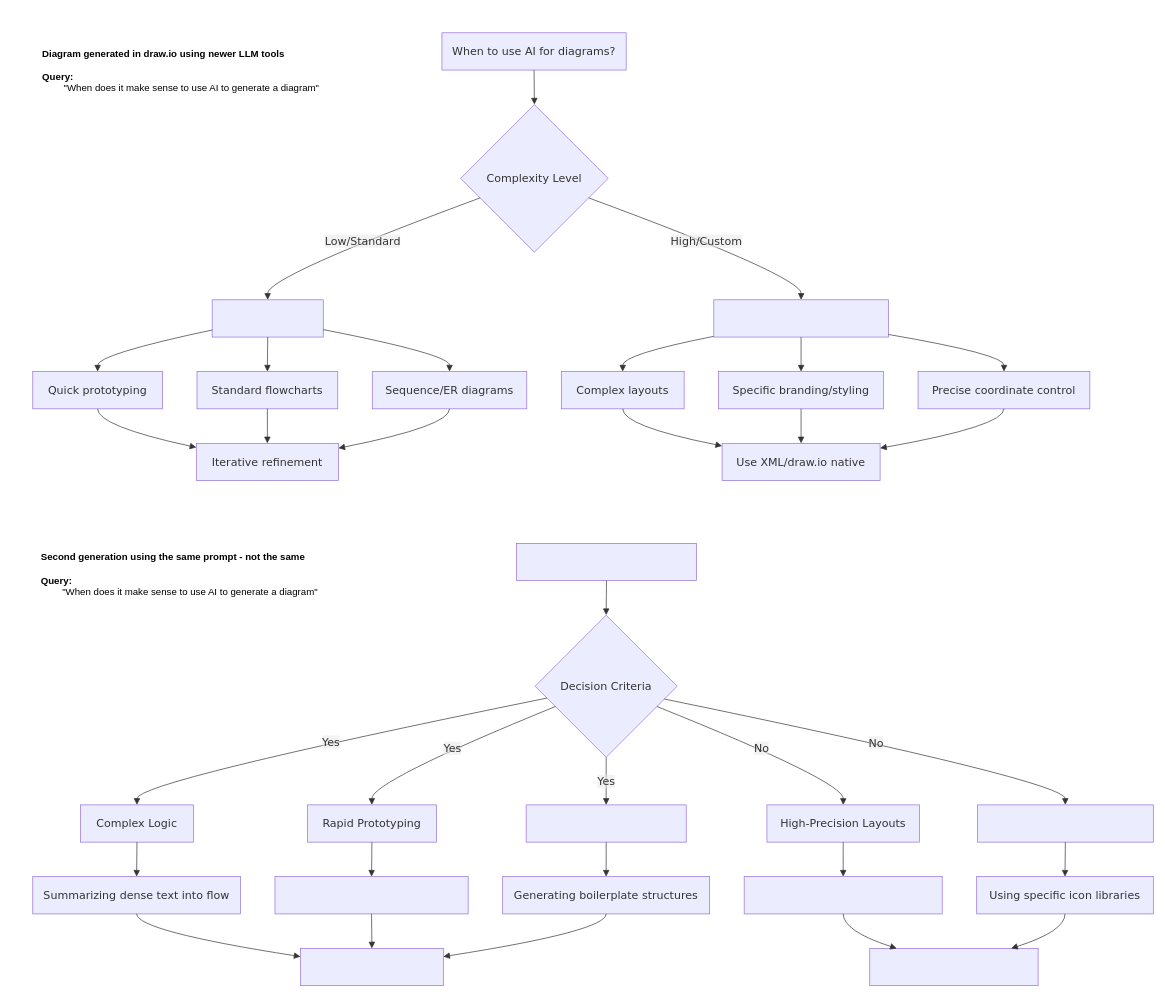
The diagram is 1165 pixels wide and 998 high, and some of its shapes have lost their labels. Here are the shapes that lost their labels. From the top down, the centre of each, then its label:
At point (267, 318): "AI is excellent".
At point (800, 318): "Manual refinement needed".
At point (606, 562): "When to use AI for diagrams".
At point (605, 823): "Standardized Workflows".
At point (1065, 823): "Proprietary/Custom Shapes".
At point (371, 895): "Iterating on architecture ideas".
At point (842, 895): "Need for exact pixel placement".
At point (371, 967): "AI is highly effective".
At point (953, 967): "Manual editing is superior".
